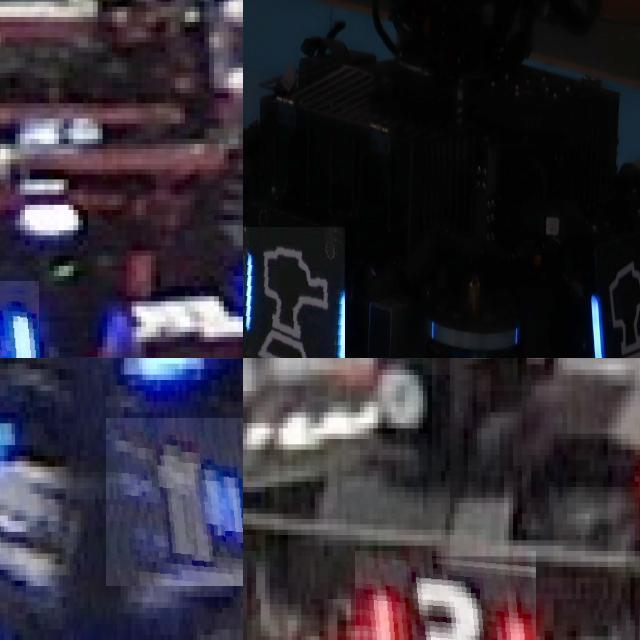B1: (106, 418, 243, 586)
B2: (0, 281, 39, 358)
Bs: (243, 226, 344, 358), (589, 255, 640, 358)
R3: (355, 551, 535, 640)
